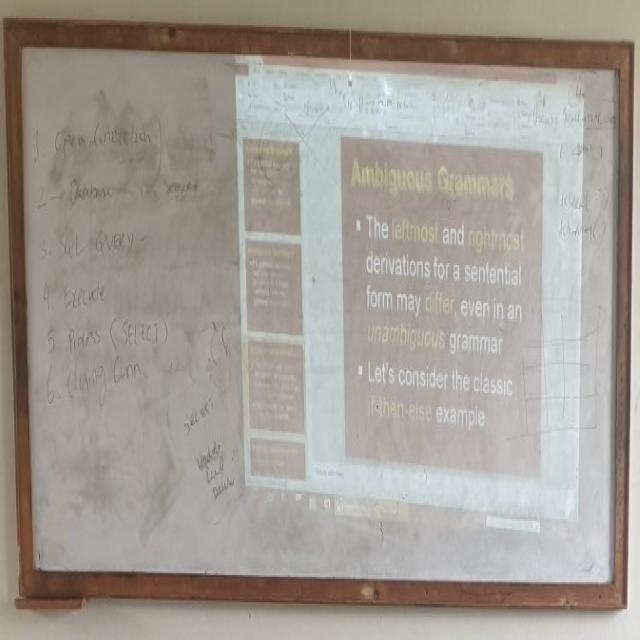Slide: (233, 27, 584, 553)
White-board: (14, 29, 623, 604)
